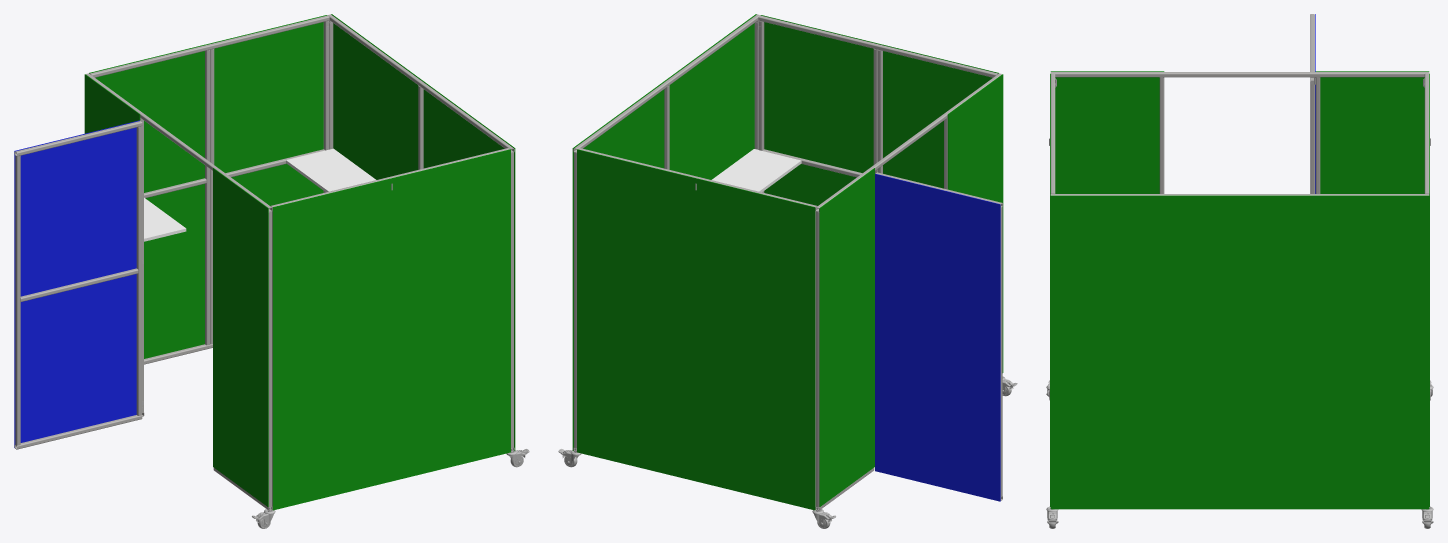
The model's file is Isla_Para_Simulacion.glb.
3 renders of one model, left to right at view 1: azimuth 30°, elevation 25°; view 2: azimuth 150°, elevation 25°; view 3: azimuth 270°, elevation 25°, orthographic. The views are drawn at different scales.
Visible parts, largest first — view 1: Solid1 (×24); view 2: Solid1 (×19); view 3: Solid1 (×7).
Part boxes in pixels (x1,y1,x2,y2): Solid1 (×24): [14, 14, 515, 510]; Solid1 (×19): [572, 14, 1003, 510]; Solid1 (×7): [1050, 71, 1429, 509].
Size of the model in its own units: 2.44 by 1.93 by 2.04.
